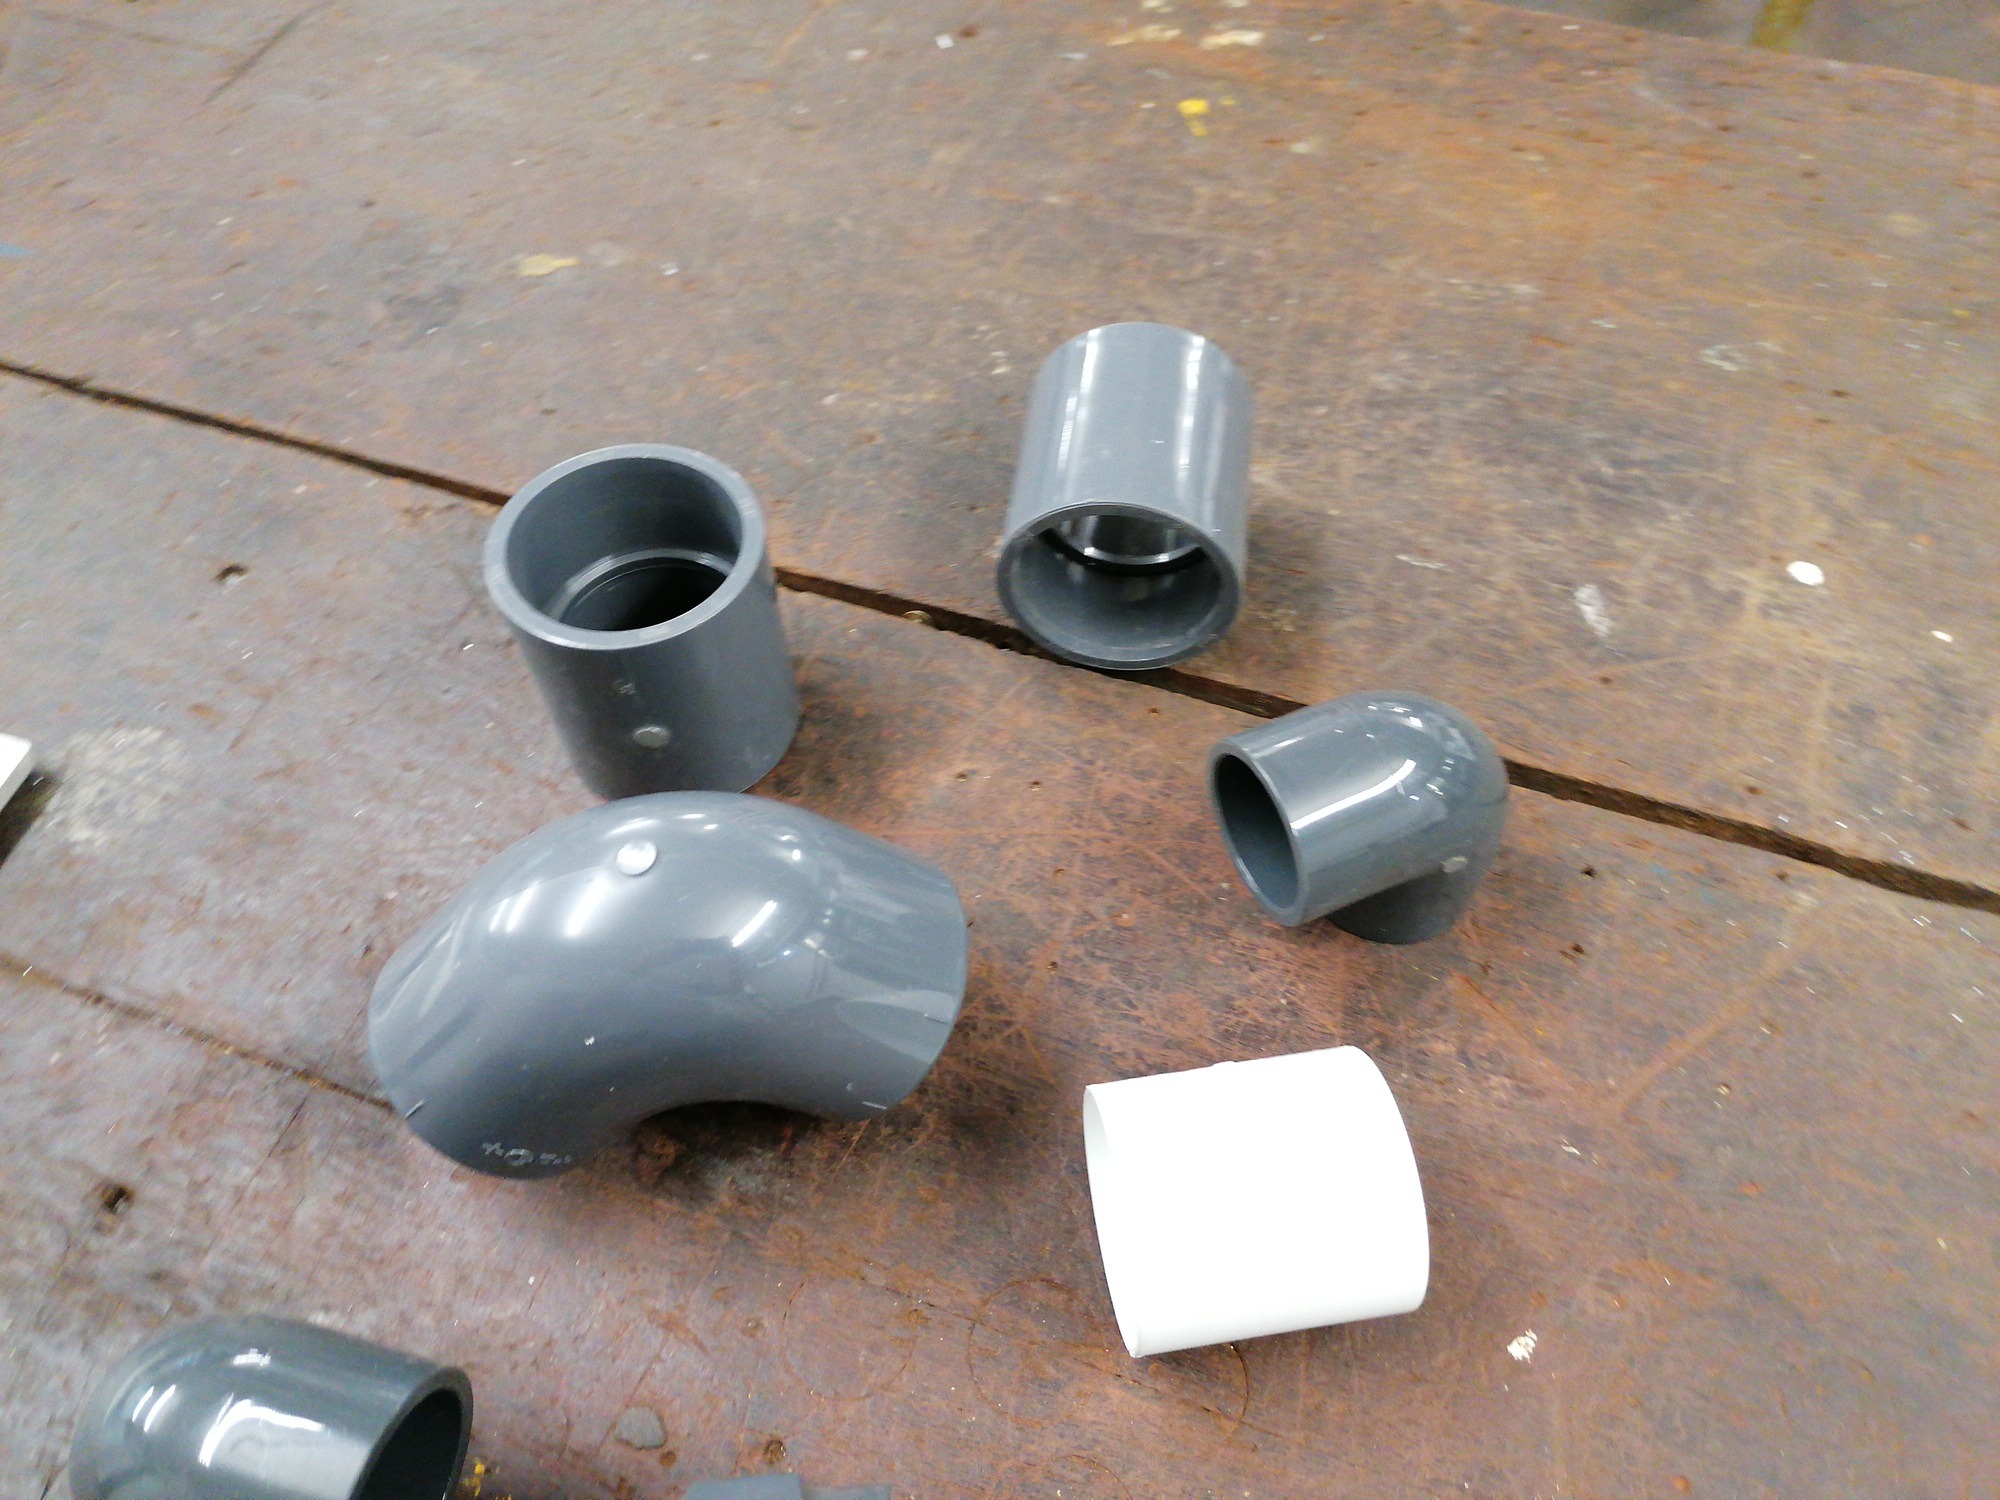pipe: (361, 793, 970, 1185), (480, 438, 805, 797), (1080, 1041, 1435, 1366), (989, 320, 1257, 671), (65, 1309, 479, 1498), (1206, 692, 1513, 945)
